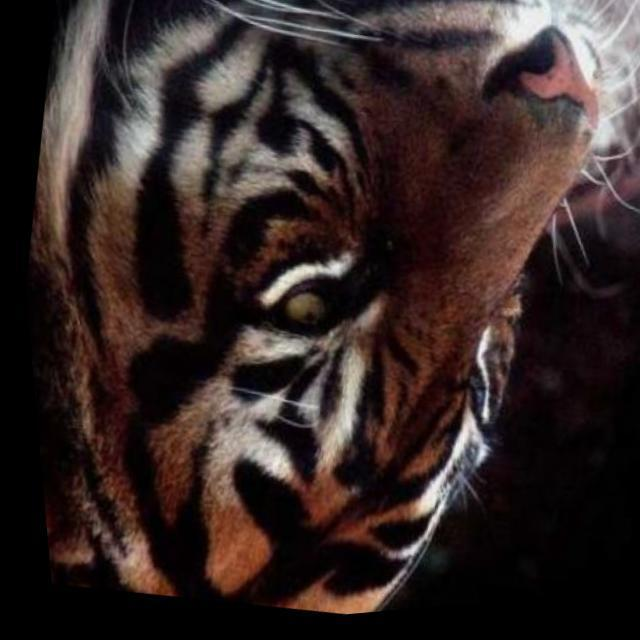tiger: (26, 0, 639, 615)
